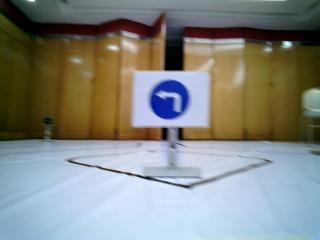left: (139, 75, 200, 125)
